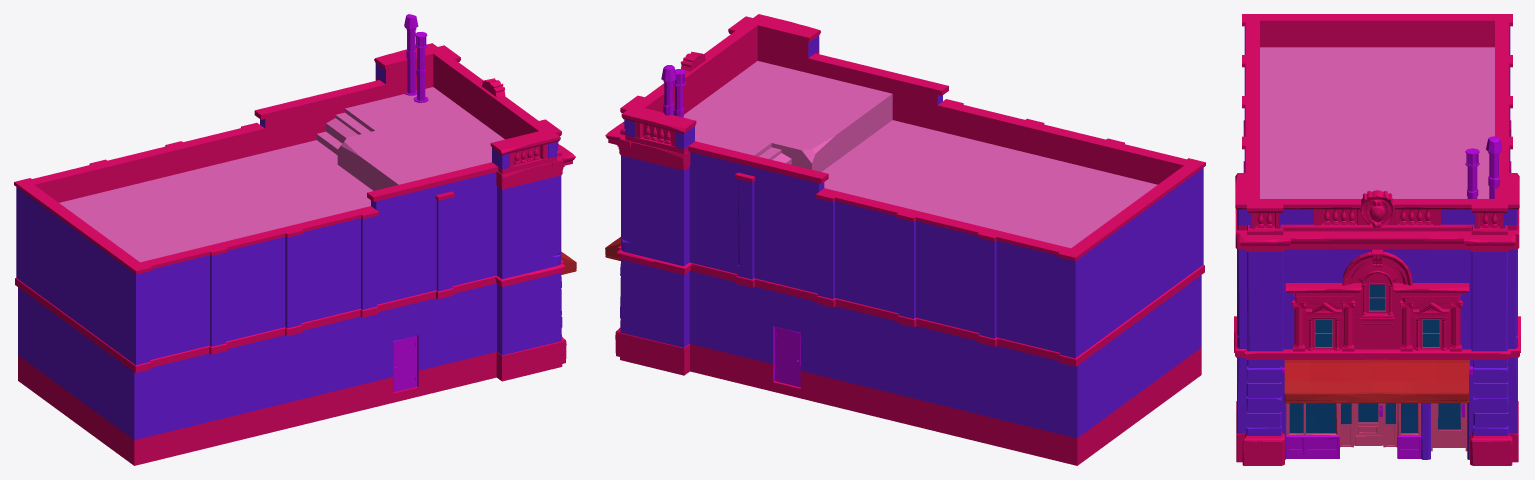
File: Backhill_Theater01.fbx
3 views of the same model, side by side, from view 1: azimuth 30°, elevation 25°; view 2: azimuth 150°, elevation 25°; view 3: azimuth 270°, elevation 25° (orthographic). The views are drawn at different scales.
Parts seen in each view (by area): view 1: SM_Backhill_Theatre_02.mo; view 2: SM_Backhill_Theatre_02.mo; view 3: SM_Backhill_Theatre_02.mo.
Boxes of the visible parts, bbox=[...] form: SM_Backhill_Theatre_02.mo: bbox=[14, 14, 576, 465]; SM_Backhill_Theatre_02.mo: bbox=[605, 14, 1205, 465]; SM_Backhill_Theatre_02.mo: bbox=[1234, 14, 1520, 465].
Bounding box in the file's own units: 1937 × 1104 × 942.
